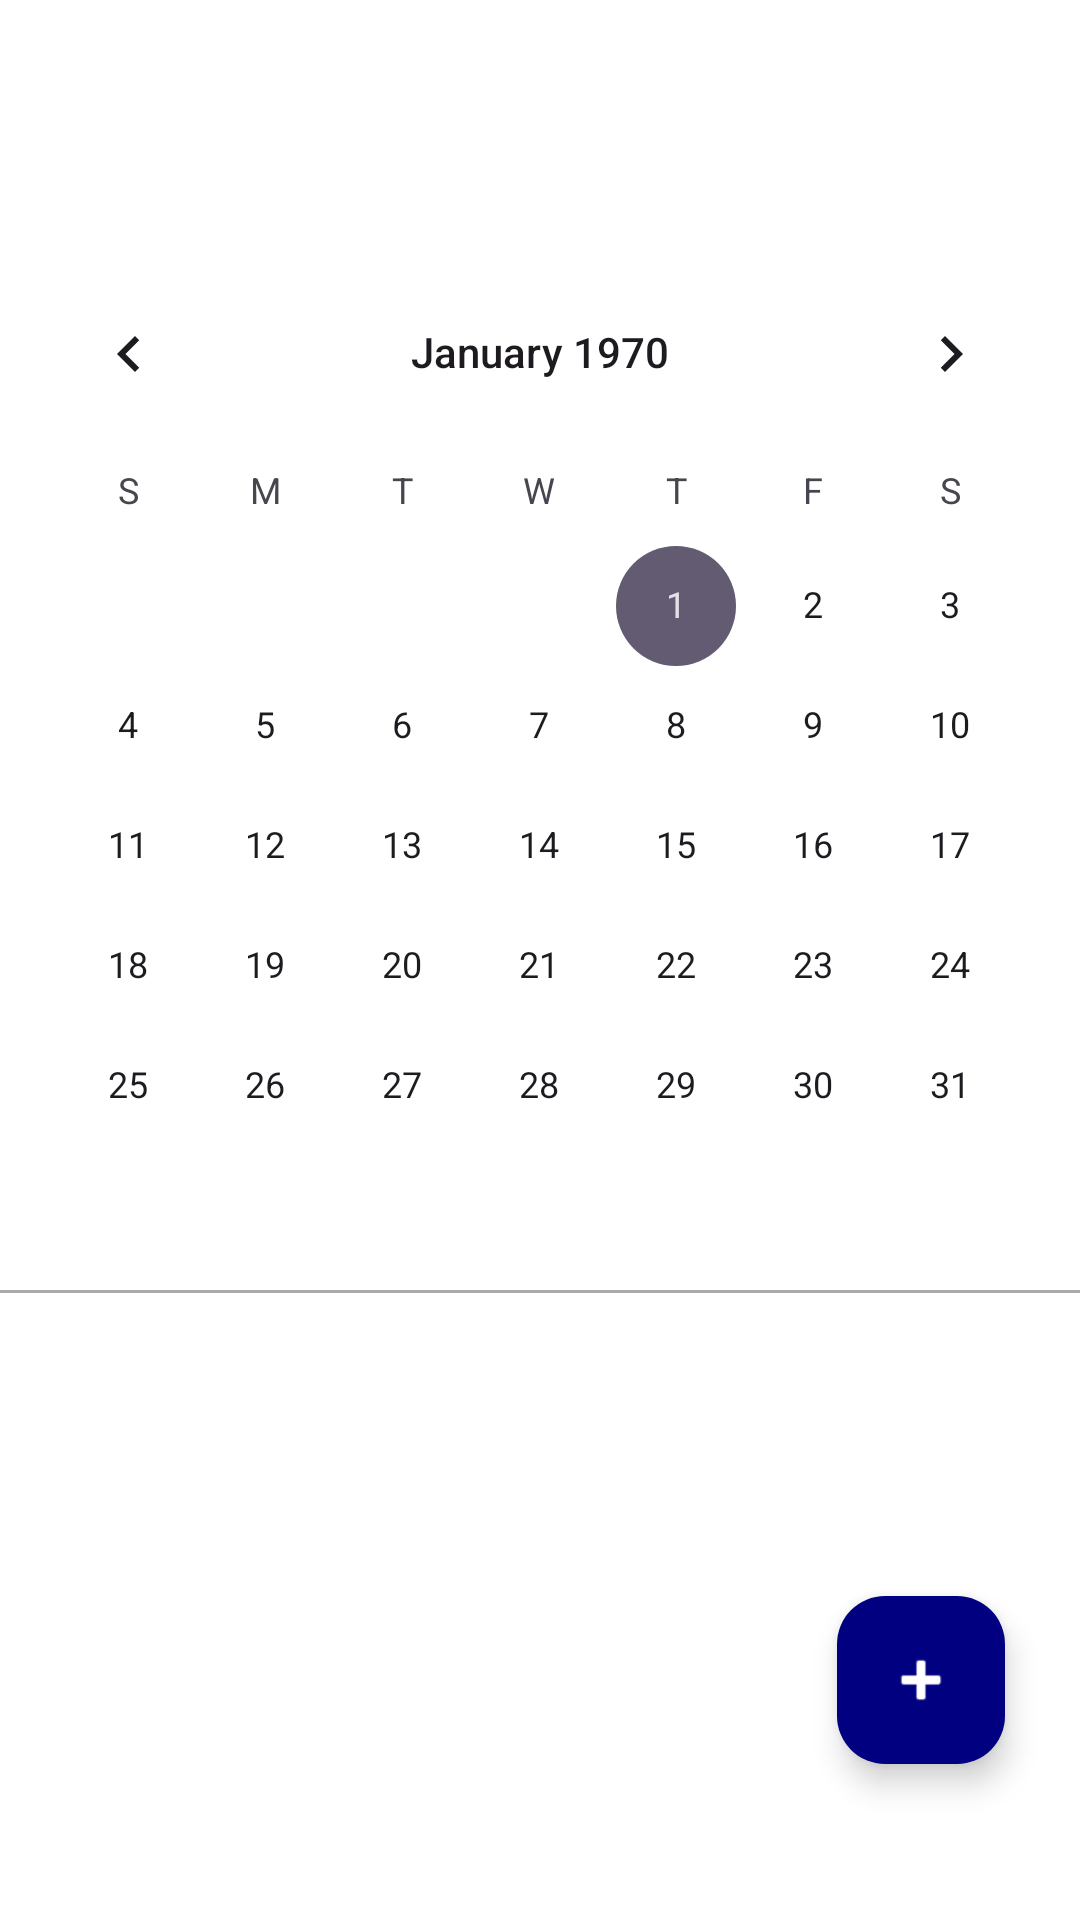

Screen size 1080 x 1920. Icon name, then its center in pixels as [x,y]:
Add event: [921,1680]
